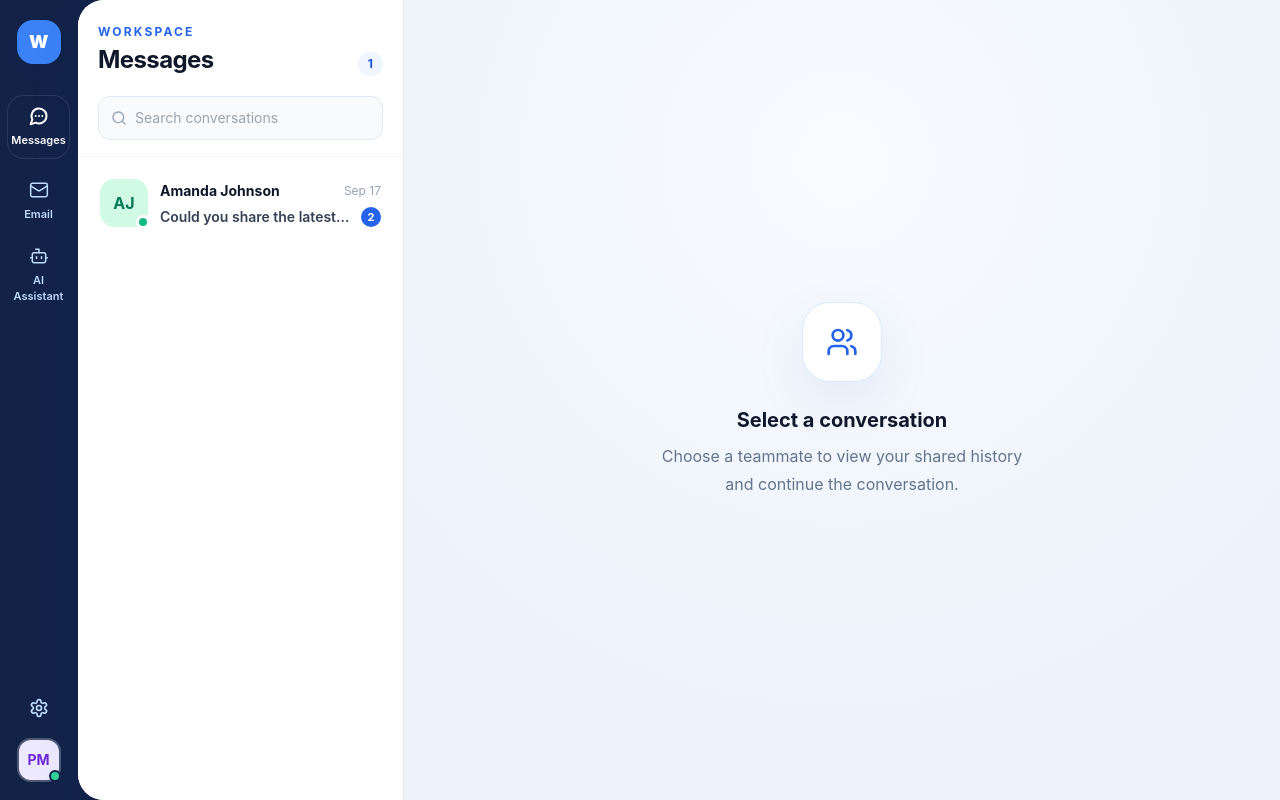
Test case: WorkHub › opens the email inbox and displays a selected message
Click the button "Email" at (38, 201), box [8, 170, 69, 232]
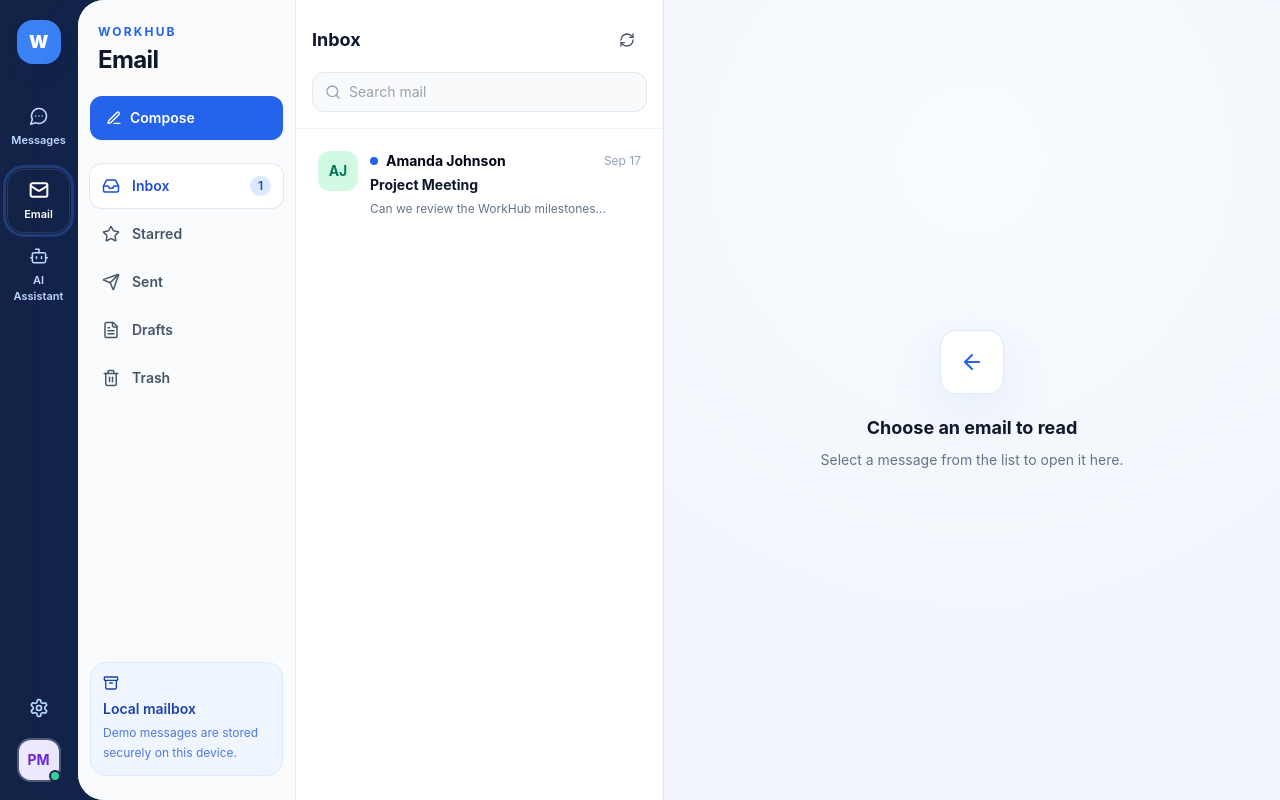
Click the text "Project Meeting" at (424, 184), box [370, 176, 478, 193]
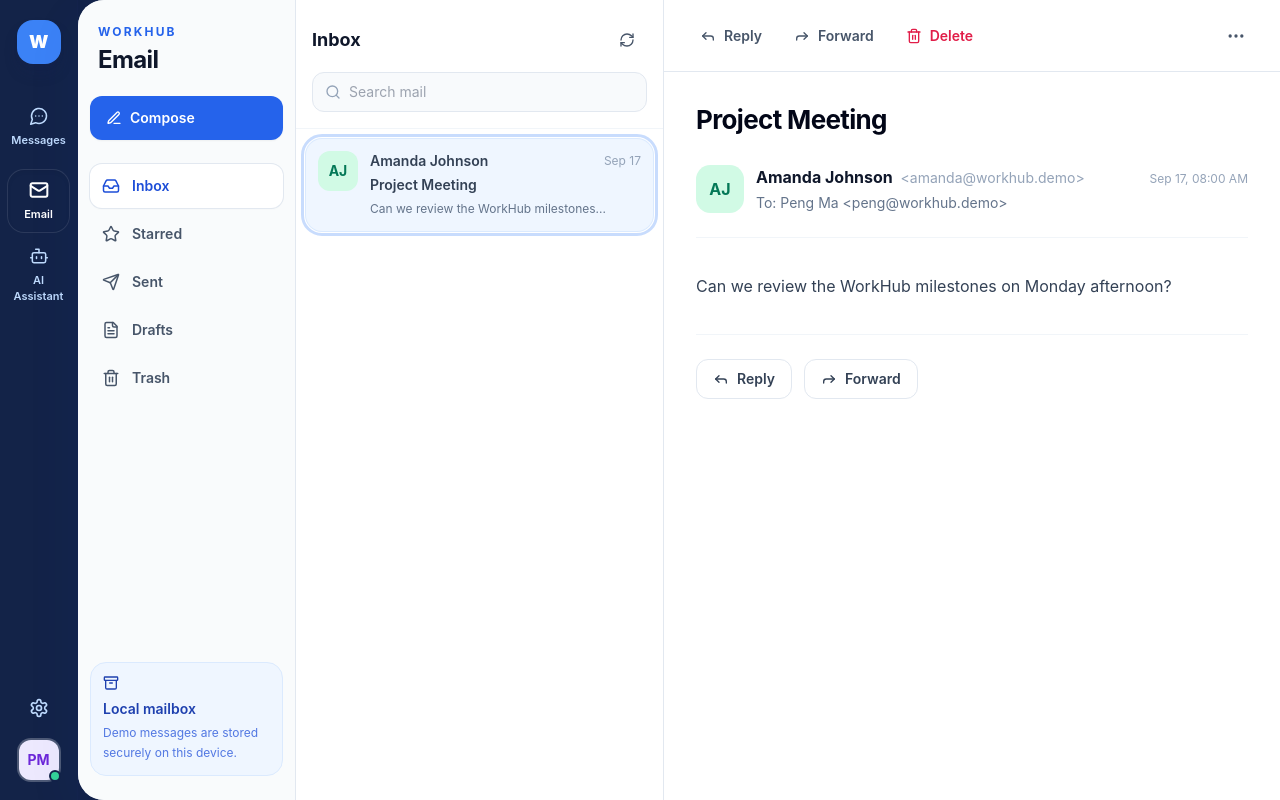
Result: the text "Can we review the WorkHub milestones on Monday afternoon?" is shown at [696, 276, 1172, 296]
Result: the button "Reply" below "To:" is shown at [696, 358, 792, 398]
